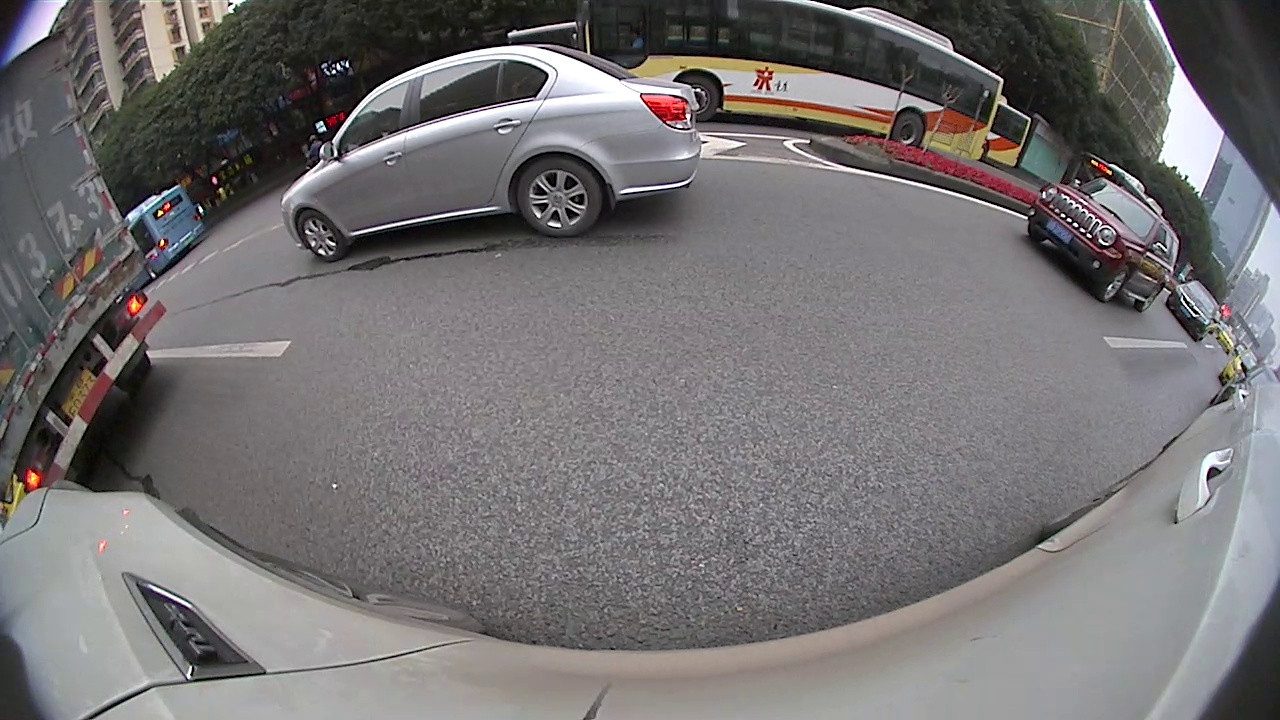bus: (578, 2, 1001, 168), (120, 183, 208, 277), (1081, 157, 1167, 213), (986, 102, 1034, 172)
car: (280, 47, 702, 262), (1032, 179, 1181, 314), (1167, 280, 1224, 341), (1211, 367, 1279, 400)
front: (295, 209, 347, 262), (1092, 264, 1131, 303)
rear: (516, 152, 604, 238), (891, 109, 925, 149)
truck: (1, 32, 163, 490)
